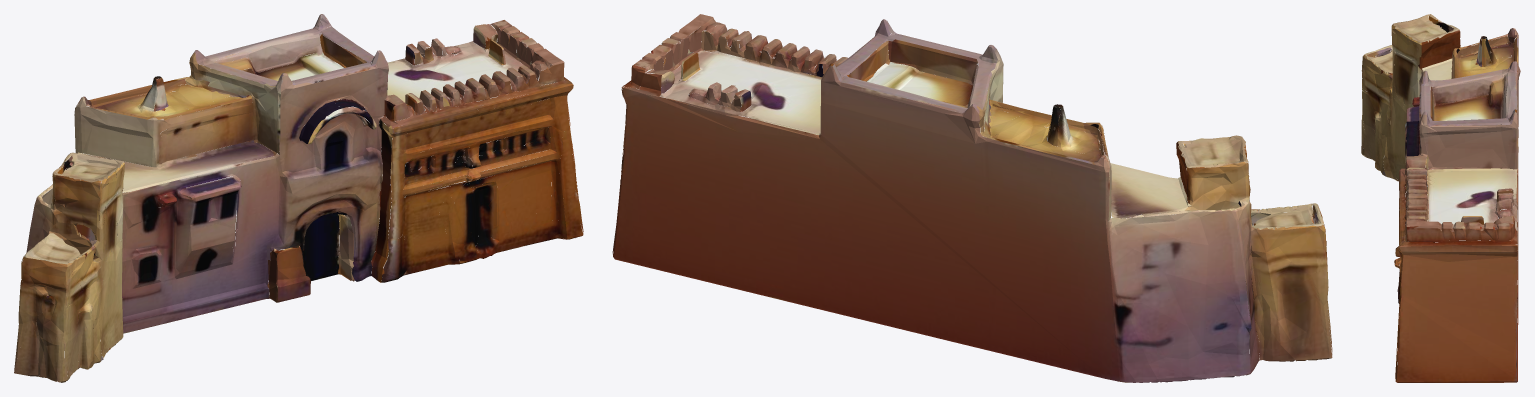
The model's file is 09_exotic_castle.glb.
3 renders of one model, left to right at view 1: azimuth 30°, elevation 25°; view 2: azimuth 150°, elevation 25°; view 3: azimuth 270°, elevation 25°, orthographic. The views are drawn at different scales.
Parts seen in each view (by area): view 1: 09_exotic_castle.ply; view 2: 09_exotic_castle.ply; view 3: 09_exotic_castle.ply.
Boxes of the visible parts, x1=… form: 09_exotic_castle.ply: x1=14, y1=14, x2=583, y2=382; 09_exotic_castle.ply: x1=612, y1=14, x2=1332, y2=382; 09_exotic_castle.ply: x1=1361, y1=14, x2=1520, y2=382.
Bounding box in the file's own units: 1 × 0.3725 × 0.2781.
1 material, 1 textured.
